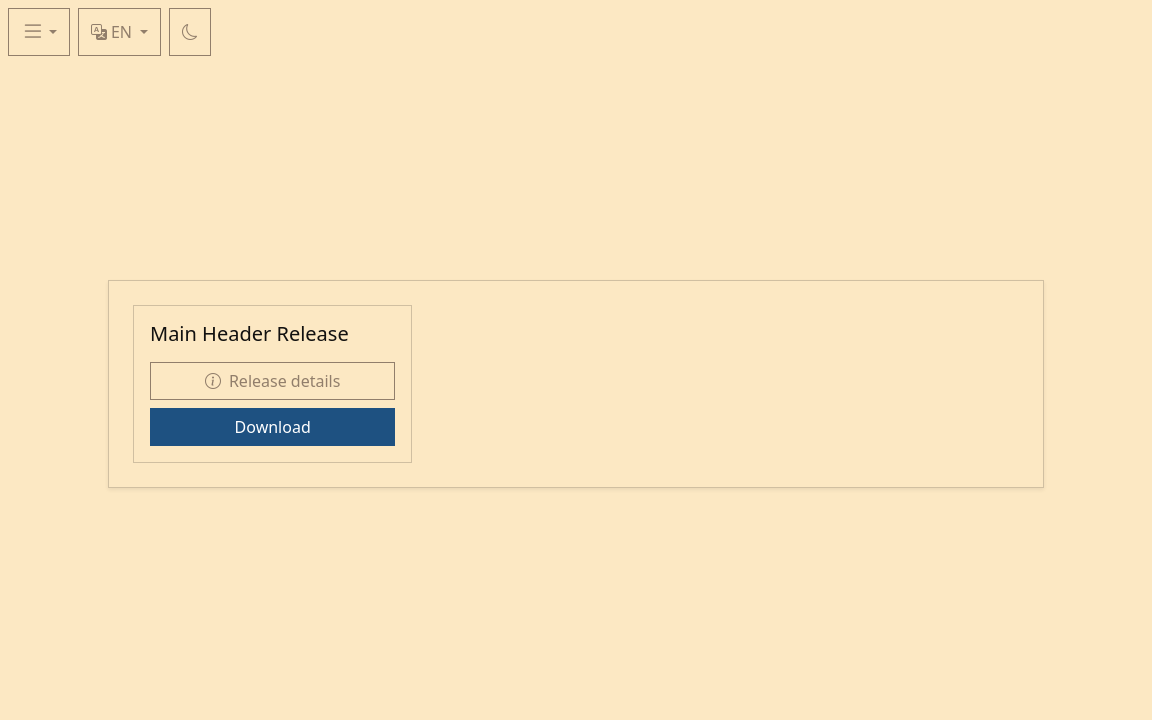
Scenario: Home › shows a clean description without generated release metadata
What coordinates should you click on to do the following:
click the button with aria-label "Release details: Main Header Release"
I would click on:
 (273, 381)
Its box is [150,362,395,400].
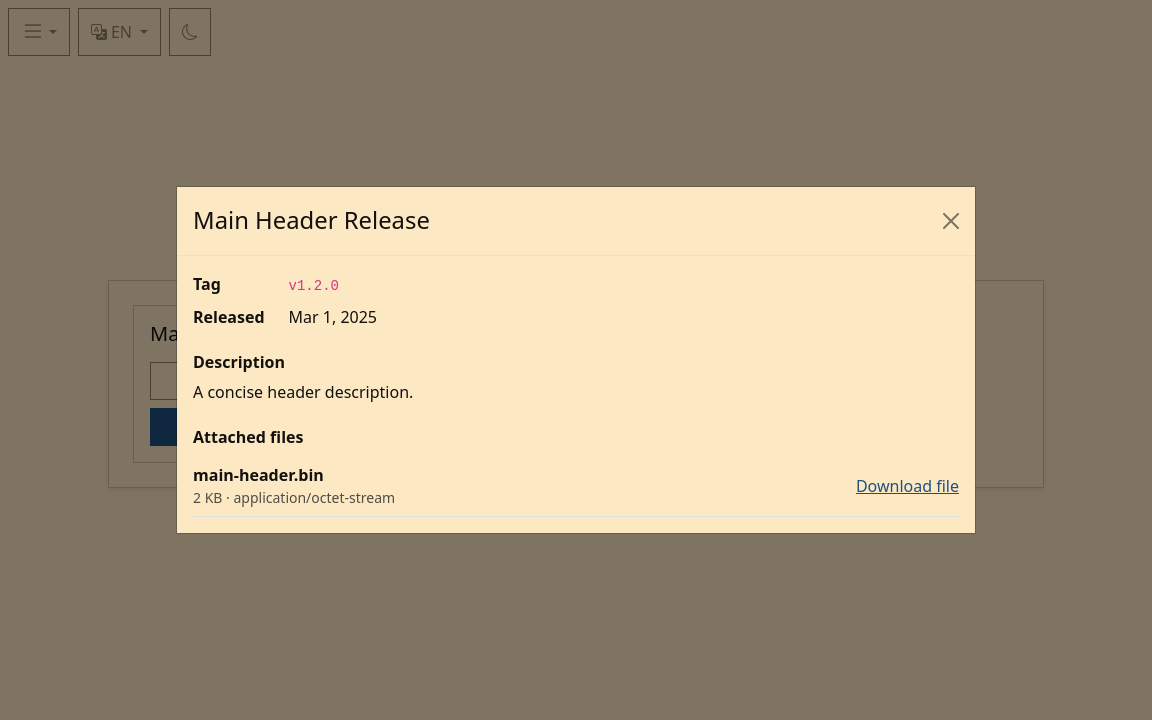
Check: the heading "Description" is shown, box [193,351,285,373]
Check: the text "A concise header description." is shown, box [193,381,413,403]
